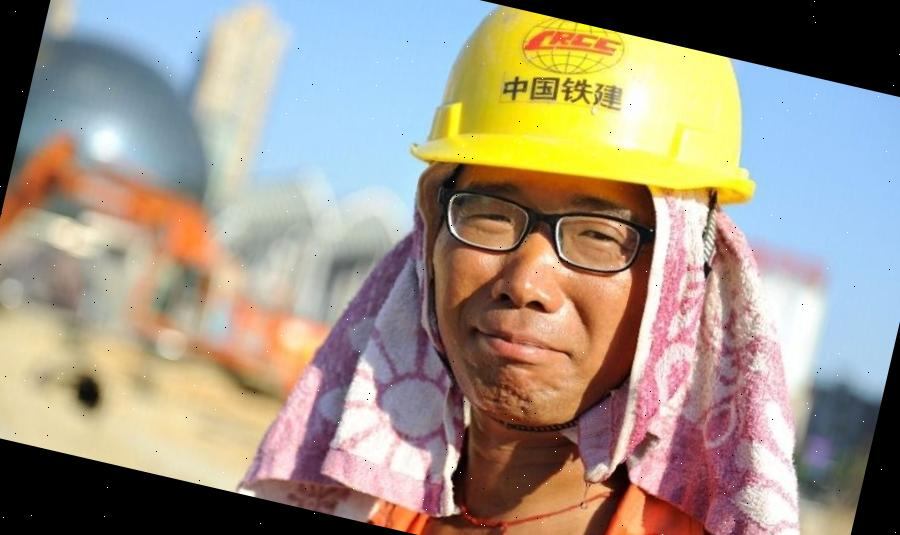helmet: (377, 0, 791, 239)
